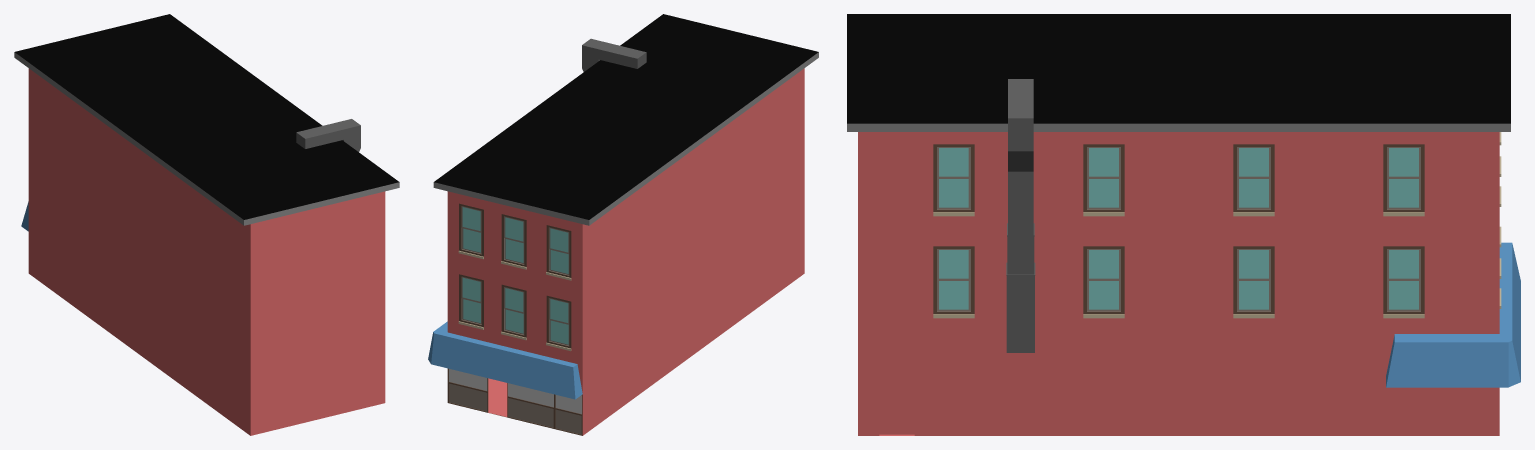
The model's file is bldgd.fbx.
3 views of the same model, side by side, from view 1: azimuth 30°, elevation 25°; view 2: azimuth 150°, elevation 25°; view 3: azimuth 270°, elevation 25° (orthographic). The views are drawn at different scales.
Visible parts, largest first — view 1: Cube; view 2: Cube; view 3: Cube.
Part boxes in pixels (x1,y1,x2,y2): Cube: (14, 14, 399, 435); Cube: (428, 14, 818, 435); Cube: (847, 14, 1520, 435).
Size of the model in its own units: 767 by 991 by 1796.
